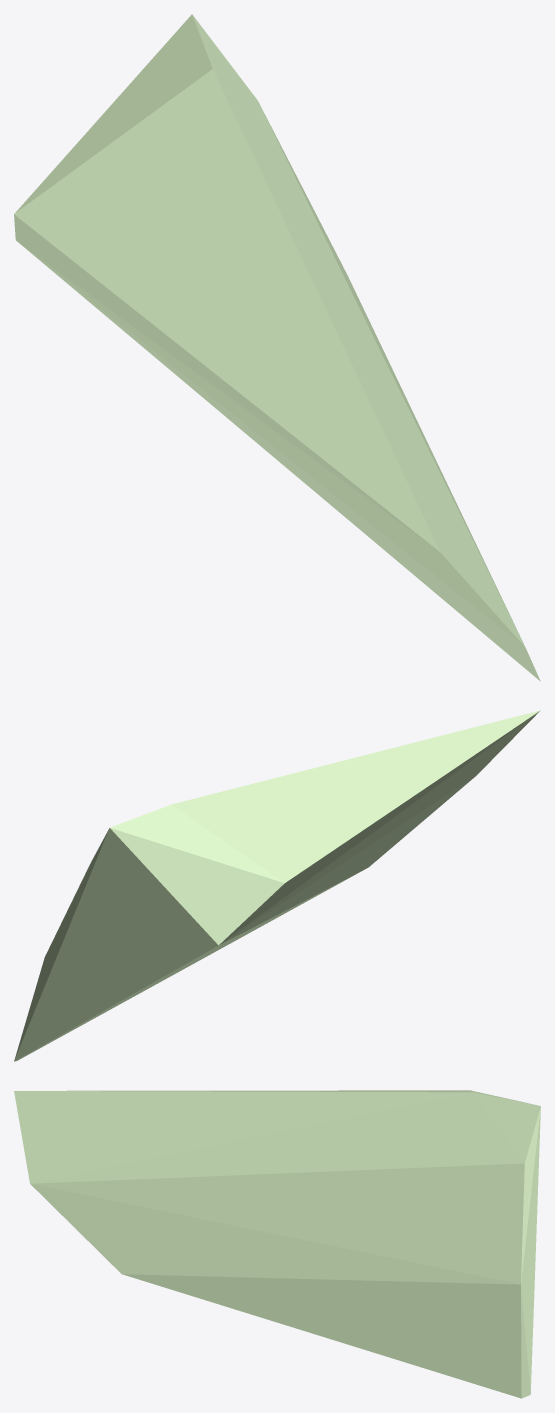
The model's file is kuka_robot_base_coll_10.dae.
3 views of the same model, one above another, from view 1: azimuth 30°, elevation 25°; view 2: azimuth 150°, elevation 25°; view 3: azimuth 270°, elevation 25° (orthographic). The views are drawn at different scales.
Visible parts, largest first — view 1: Node_0000015C5C912E10; view 2: Node_0000015C5C912E10; view 3: Node_0000015C5C912E10.
Part boxes in pixels (bbox=[...]): Node_0000015C5C912E10: bbox=[14, 14, 540, 681]; Node_0000015C5C912E10: bbox=[14, 710, 540, 1061]; Node_0000015C5C912E10: bbox=[14, 1090, 540, 1398].
Bounding box in the file's own units: 0.0458 × 0.0471 × 0.0906.
